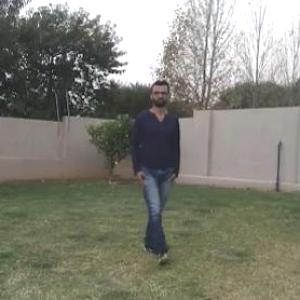follow: (136, 84, 177, 248)
